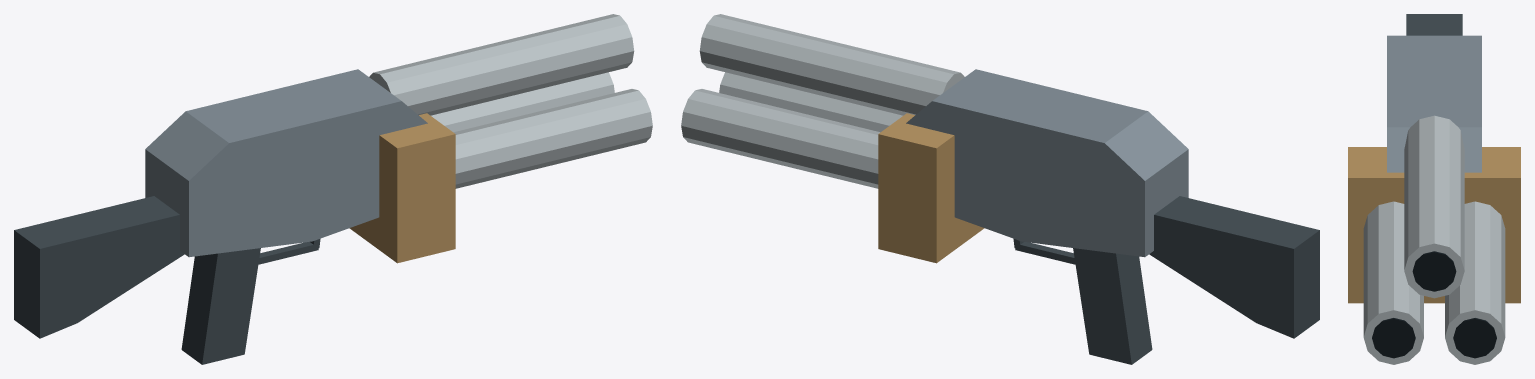
Rendered from w06-cerberus.glb.
The picture shows the model from 3 angles, left to right: view 1: azimuth 30°, elevation 25°; view 2: azimuth 150°, elevation 25°; view 3: azimuth 270°, elevation 25°; orthographic projection. The views are drawn at different scales.
Parts seen in each view (by area): view 1: w06-cerberus__receiver, w06-cerberus__stock, w06-cerberus__top_barrel, w06-cerberus__left_barrel, w06-cerberus__breech, w06-cerberus__grip, w06-cerberus__right_barrel, w06-cerberus__guard_bottom; view 2: w06-cerberus__receiver, w06-cerberus__stock, w06-cerberus__top_barrel, w06-cerberus__right_barrel, w06-cerberus__breech, w06-cerberus__grip, w06-cerberus__left_barrel, w06-cerberus__guard_bottom; view 3: w06-cerberus__receiver, w06-cerberus__breech, w06-cerberus__top_barrel, w06-cerberus__left_barrel, w06-cerberus__right_barrel, w06-cerberus__top_barrel_bore, w06-cerberus__left_barrel_bore, w06-cerberus__right_barrel_bore, w06-cerberus__stock.
Boxes of the visible parts, box(x1,y1,x2,y2) form: w06-cerberus__receiver: box(145, 69, 427, 257); w06-cerberus__stock: box(14, 196, 184, 338); w06-cerberus__top_barrel: box(369, 14, 634, 115); w06-cerberus__left_barrel: box(454, 89, 652, 188); w06-cerberus__breech: box(349, 113, 455, 263); w06-cerberus__grip: box(181, 248, 260, 364); w06-cerberus__right_barrel: box(431, 72, 614, 132); w06-cerberus__guard_bottom: box(258, 242, 318, 264); w06-cerberus__receiver: box(906, 69, 1188, 257); w06-cerberus__stock: box(1149, 196, 1319, 338); w06-cerberus__top_barrel: box(699, 14, 964, 115); w06-cerberus__right_barrel: box(681, 89, 879, 188); w06-cerberus__breech: box(878, 113, 984, 263); w06-cerberus__grip: box(1073, 248, 1152, 364); w06-cerberus__left_barrel: box(719, 72, 902, 132); w06-cerberus__guard_bottom: box(1015, 242, 1075, 264); w06-cerberus__receiver: box(1387, 35, 1481, 172); w06-cerberus__breech: box(1348, 147, 1520, 303); w06-cerberus__top_barrel: box(1404, 115, 1464, 298); w06-cerberus__left_barrel: box(1363, 201, 1423, 364); w06-cerberus__right_barrel: box(1445, 201, 1505, 364); w06-cerberus__top_barrel_bore: box(1412, 251, 1456, 291); w06-cerberus__left_barrel_bore: box(1372, 318, 1415, 358); w06-cerberus__right_barrel_bore: box(1453, 318, 1496, 358); w06-cerberus__stock: box(1406, 14, 1462, 35).
Size of the model in its own units: 0.867 by 0.33 by 0.2.
